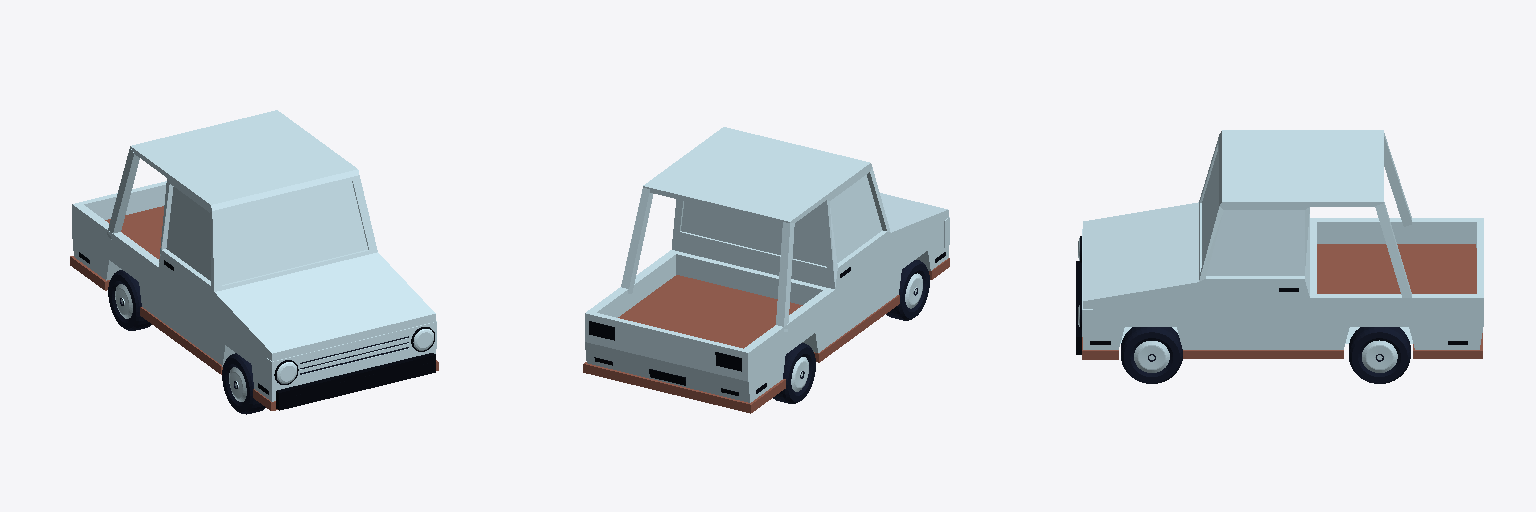
The model's file is lowpoly_car_revised.obj.
3 views of the same model, side by side, from view 1: azimuth 30°, elevation 25°; view 2: azimuth 150°, elevation 25°; view 3: azimuth 270°, elevation 25° (orthographic).
Parts seen in each view (by area): view 1: Cube.1; view 2: Cube.1; view 3: Cube.1.
Part boxes in pixels (left/top/right/bottom): Cube.1: left=70, top=110, right=438, bottom=414; Cube.1: left=583, top=127, right=949, bottom=413; Cube.1: left=1076, top=130, right=1483, bottom=383.
Bounding box in the file's own units: 15.45 × 15.74 × 32.33.